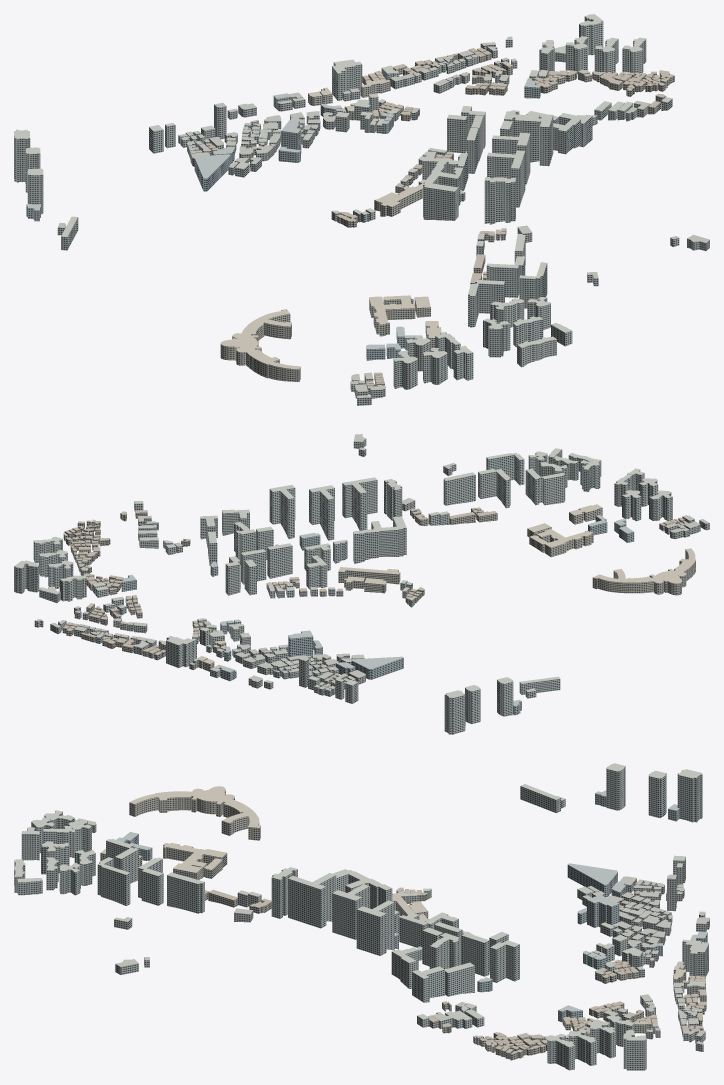
The model's file is city_6_-4.glb.
3 renders of one model, top to bottom at view 1: azimuth 30°, elevation 25°; view 2: azimuth 150°, elevation 25°; view 3: azimuth 270°, elevation 25°, orthographic. The views are drawn at different scales.
Bounding box in the file's own units: 1027 × 139 × 1017.
5 materials, 5 textured.
